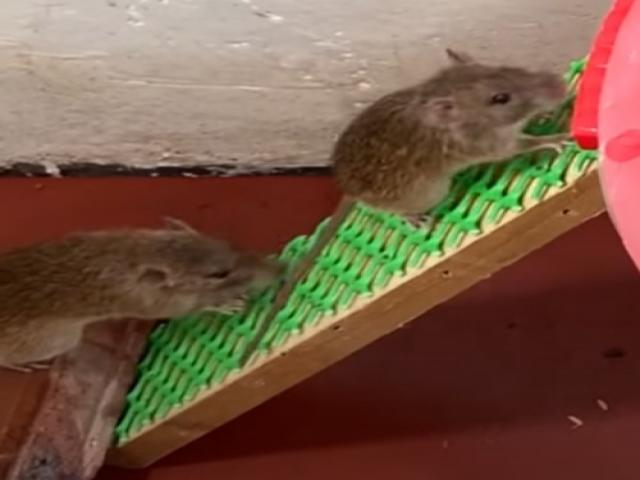Tikus: (2, 219, 278, 374), (333, 45, 569, 225)
